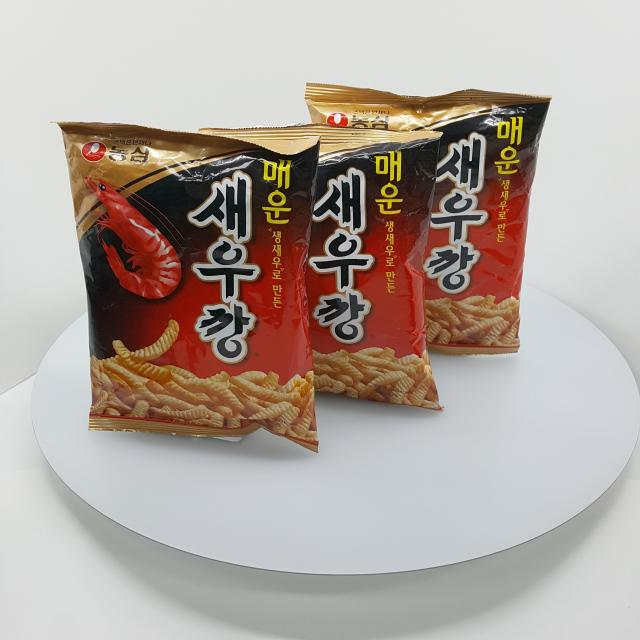-90G: (50, 122, 323, 454), (198, 124, 445, 413), (306, 83, 554, 357)
